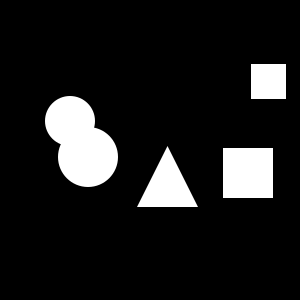circle: (223, 148, 273, 198), (251, 64, 286, 99)
rectangle: (58, 127, 118, 187), (45, 96, 95, 146)
triangle: (137, 146, 198, 207)
